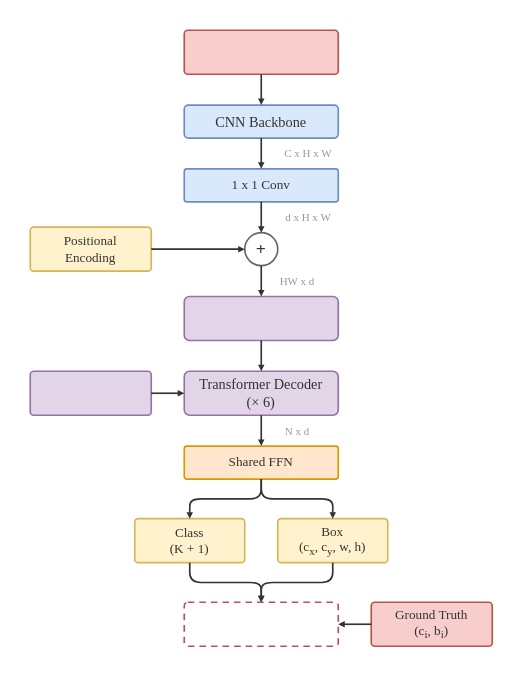
Image size: 521x675. Some labels were removed from this diagram. The shapes that lost their labels are listed below. From the top down, each one's centre as x and y in pixels, then its label:
the point at 261,52: Image 3 x H 0 x W 0
the point at 261,318: Transformer Encoder (× 6)
the point at 90,393: Object Queries (N learned)
the point at 261,624: Bipartite Matching Loss
